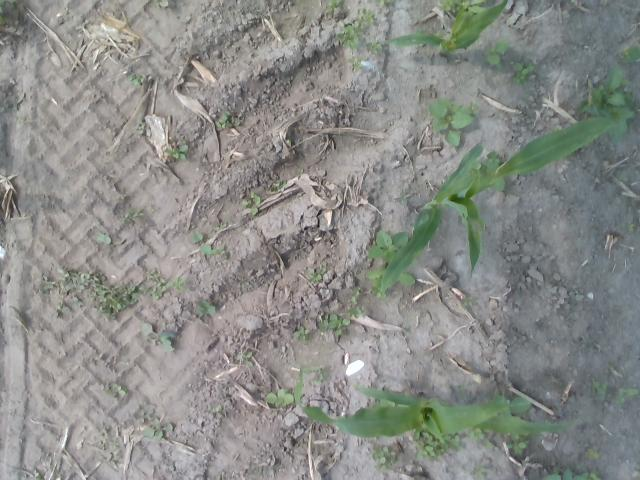Maize: (380, 118, 615, 304), (295, 361, 590, 448), (384, 0, 511, 59)
Weeds: (578, 64, 632, 144), (427, 94, 479, 147), (92, 282, 146, 321), (366, 264, 416, 300), (413, 428, 462, 460), (366, 230, 410, 264), (488, 390, 532, 420), (137, 408, 174, 440), (57, 267, 104, 292), (140, 322, 174, 352), (540, 465, 604, 480), (334, 20, 364, 52), (96, 428, 120, 464), (483, 38, 510, 70), (317, 312, 350, 338), (467, 150, 500, 174), (438, 0, 484, 17), (372, 443, 398, 472), (466, 426, 496, 451), (144, 268, 167, 299), (264, 387, 294, 409), (512, 58, 535, 84), (188, 230, 212, 254), (240, 191, 262, 217), (505, 433, 529, 456), (215, 110, 242, 130), (618, 44, 640, 66), (303, 365, 328, 384), (614, 384, 640, 402), (162, 144, 188, 161), (120, 206, 144, 224), (104, 383, 128, 400), (35, 274, 55, 294), (470, 461, 491, 480), (195, 298, 216, 316), (356, 8, 376, 24), (167, 276, 186, 292), (307, 266, 326, 282), (234, 351, 254, 366), (590, 379, 608, 395), (292, 326, 310, 342), (127, 72, 145, 88), (92, 231, 111, 245), (348, 286, 361, 306), (348, 56, 366, 70), (53, 304, 71, 318), (584, 447, 602, 460), (347, 306, 366, 318), (366, 40, 382, 54), (489, 178, 506, 191), (213, 218, 230, 231), (614, 168, 628, 182), (454, 382, 466, 398), (270, 180, 286, 191), (72, 296, 84, 309), (212, 244, 226, 255), (0, 0, 6, 25), (416, 28, 424, 46), (136, 120, 146, 134), (32, 469, 44, 480), (151, 0, 169, 7), (395, 192, 407, 202), (436, 28, 448, 38), (462, 297, 472, 308), (626, 222, 636, 232), (376, 0, 392, 6), (327, 0, 340, 7), (606, 363, 616, 372), (211, 405, 222, 412), (216, 476, 222, 480)
